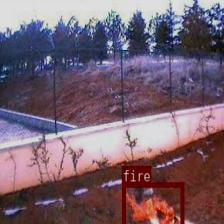fire: (121, 181, 182, 224)
